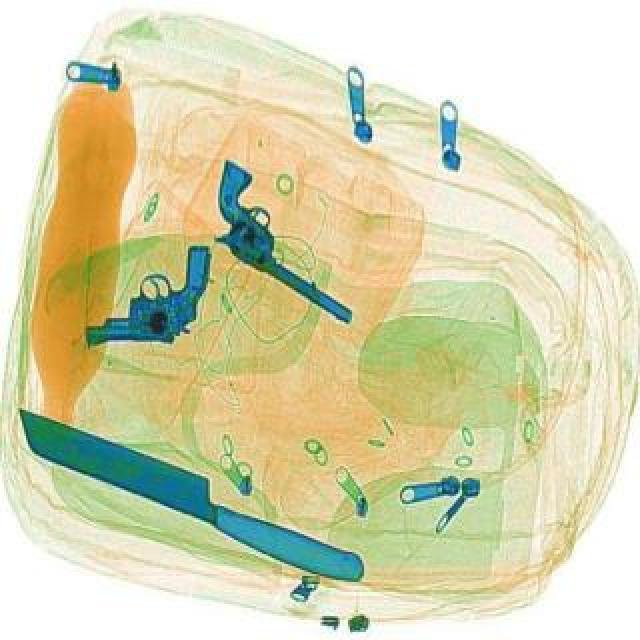gun: (182, 156, 396, 328), (82, 242, 218, 342)
knife: (4, 398, 380, 592)
